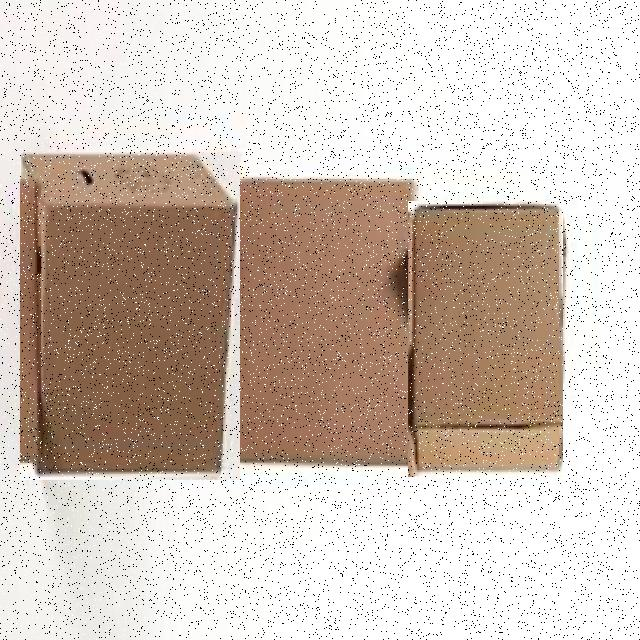normal: (20, 152, 240, 480), (215, 174, 417, 471), (408, 201, 563, 477)
